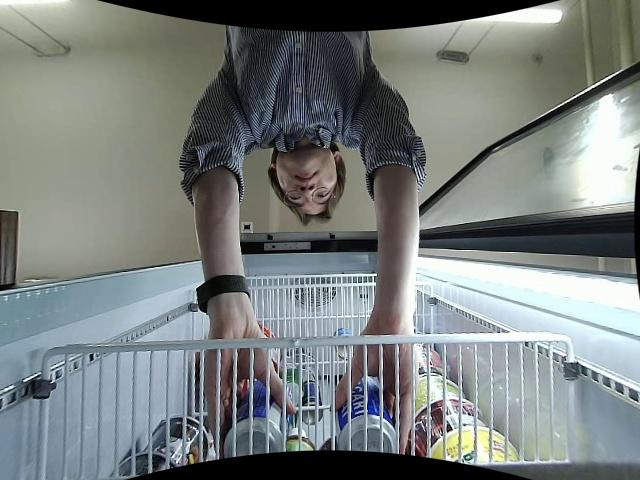00_hand: (201, 325, 297, 447), (329, 328, 417, 449)
13_pocariSweat: (219, 378, 287, 464), (333, 373, 396, 456)
